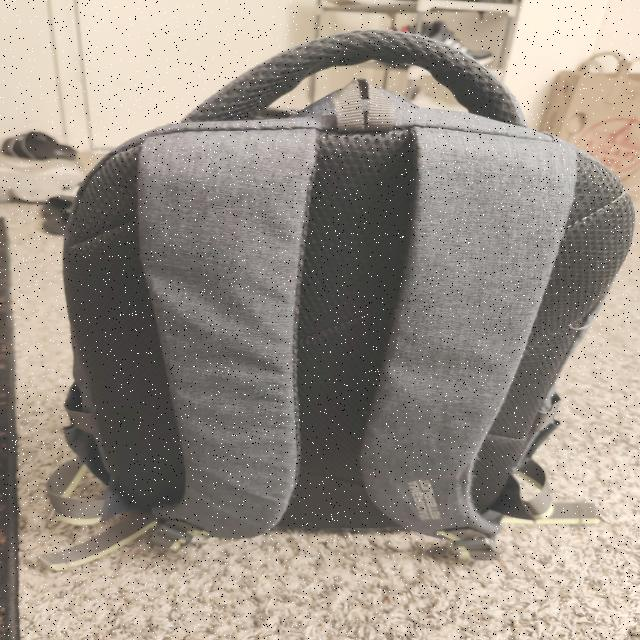bag: (73, 35, 640, 516)
